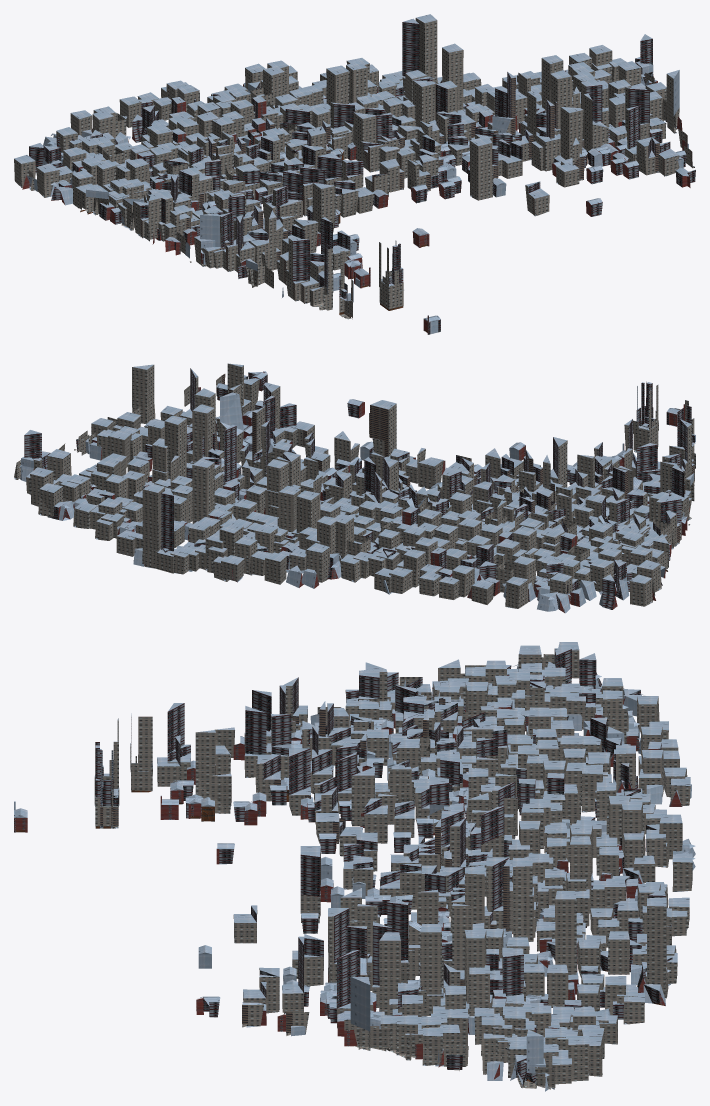
Rendered from kp_bg_city_24k_tris.glb.
The picture shows the model from 3 angles, top to bottom: view 1: azimuth 30°, elevation 25°; view 2: azimuth 150°, elevation 25°; view 3: azimuth 270°, elevation 25°; orthographic projection. The views are drawn at different scales.
Parts seen in each view (by area): view 1: Plane.001; view 2: Plane.001; view 3: Plane.001.
Part boxes in pixels (x1,y1,x2,y2): Plane.001: (14,14,695,334); Plane.001: (14,363,695,613); Plane.001: (14,642,695,1091).
Bounding box in the file's own units: 87.07 × 10.52 × 66.29.
Materials: 7 (7 with a texture image).
